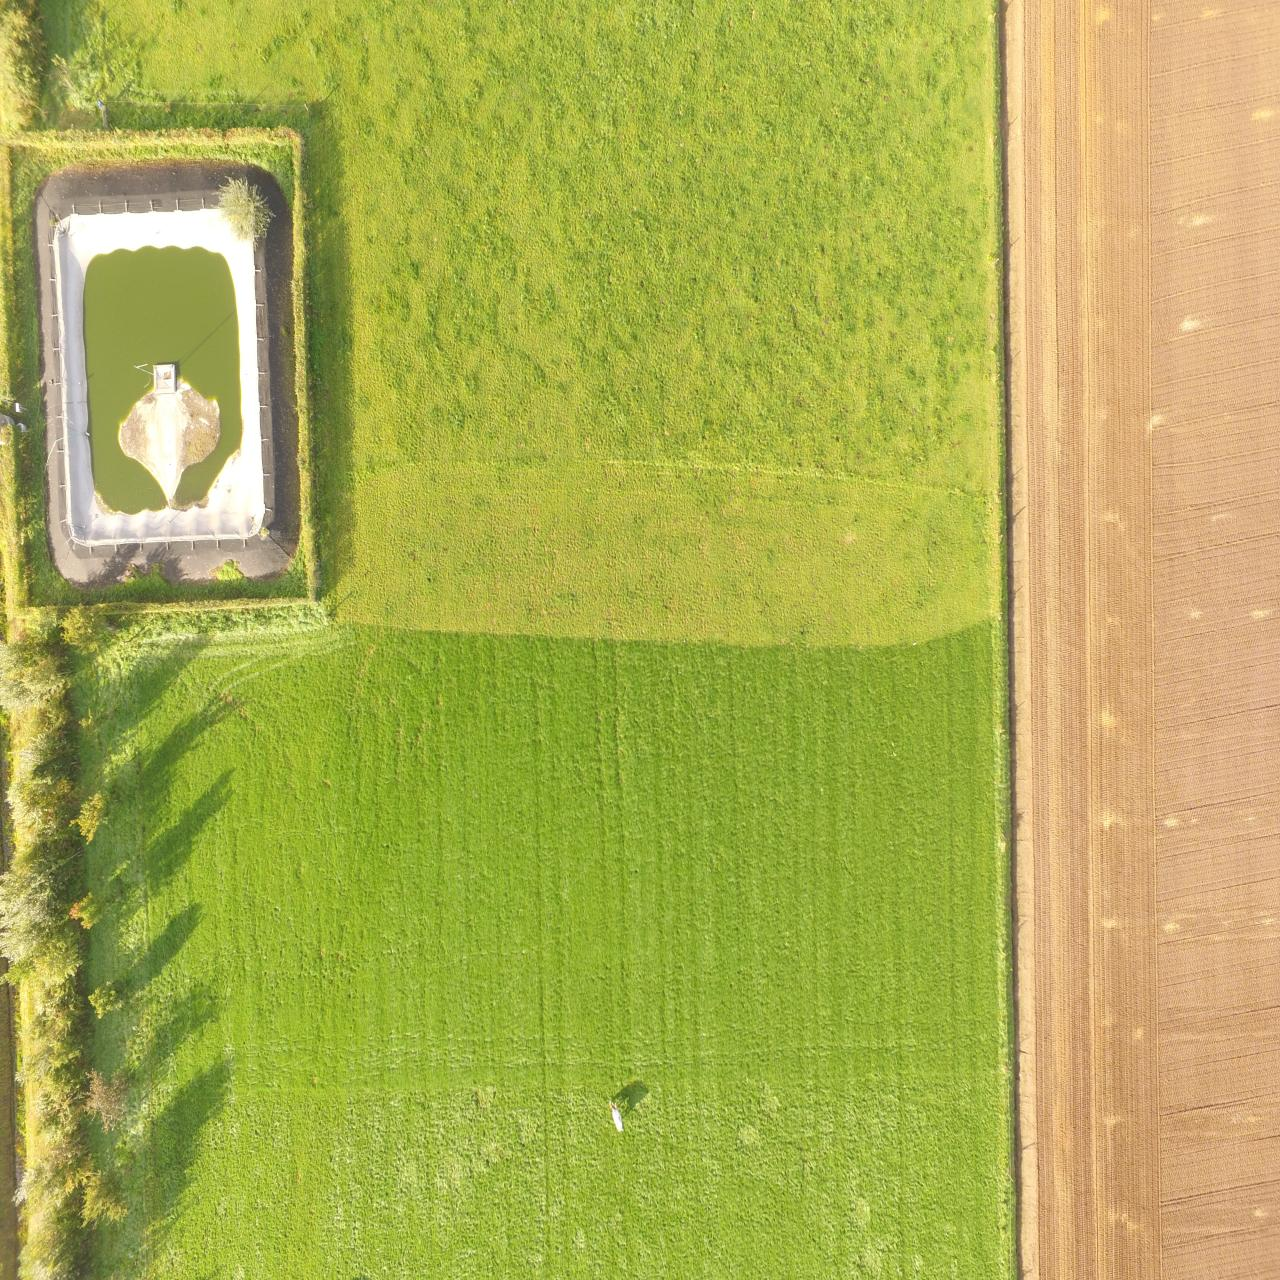cow: (607, 1096, 625, 1137)
